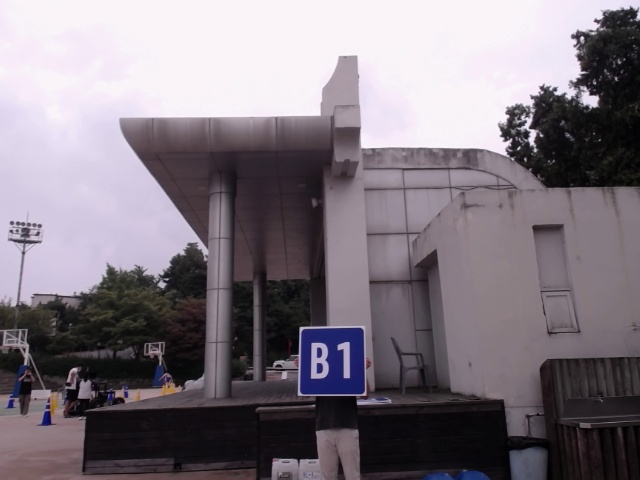delivery_b1: (300, 327, 366, 395)
